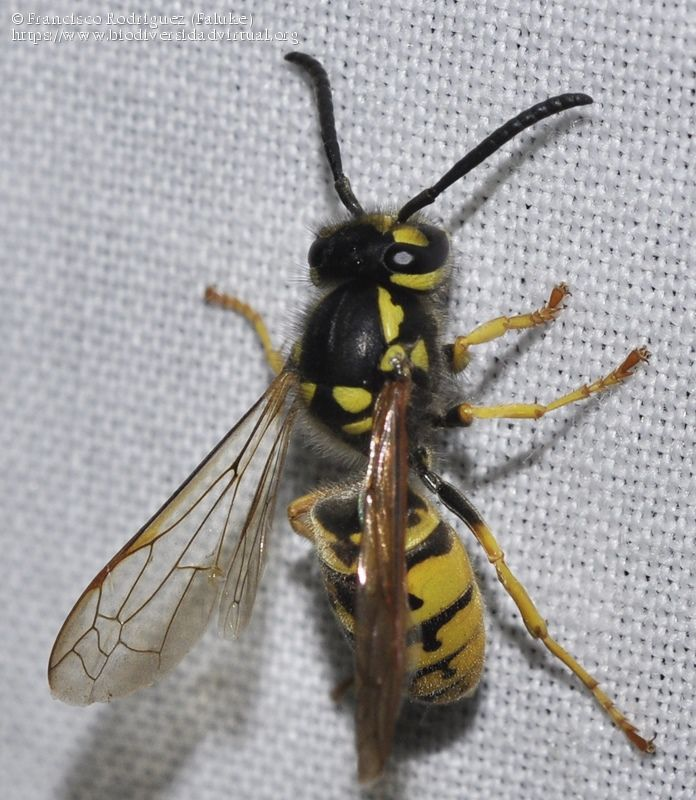chax: (28, 24, 670, 800)
